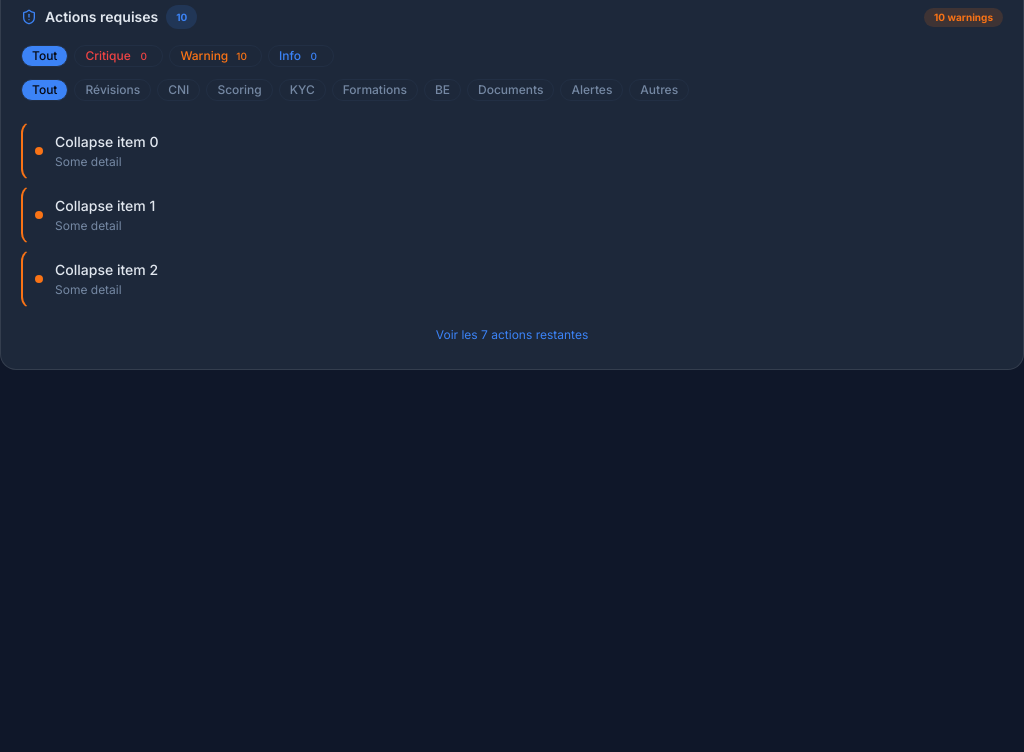
Test: DashboardCockpit › collapses the list when clicking the collapse button
Click the button "Voir les 7 actions restantes" at [512, 335], box [21, 321, 1003, 349]
(page scrolled)
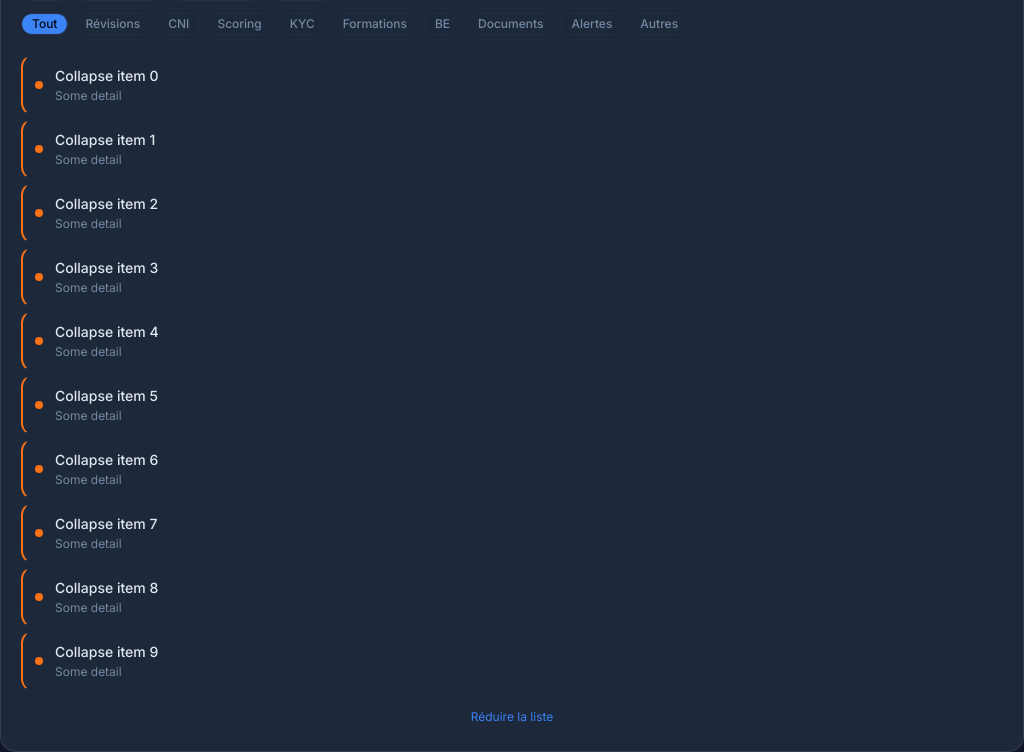
Now the text "Collapse item 9" is shown, box [55, 643, 158, 660]
Click the button "Réduire la liste" at [512, 717], box [21, 703, 1003, 731]
(page scrolled)
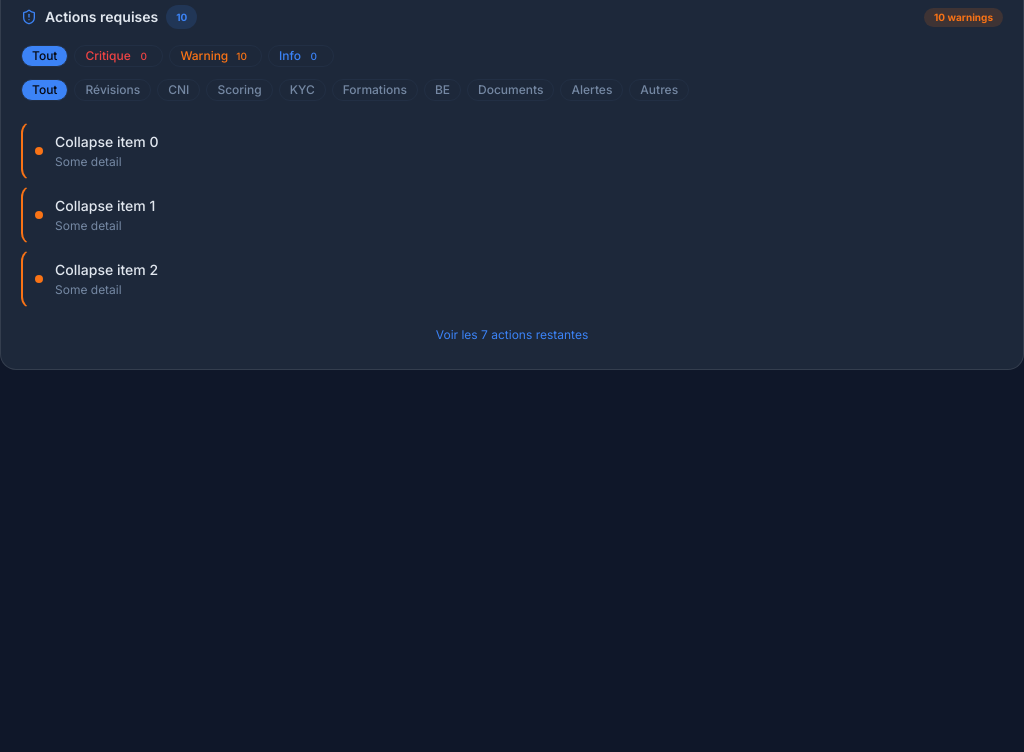
Now the text "Collapse item 9" is gone
